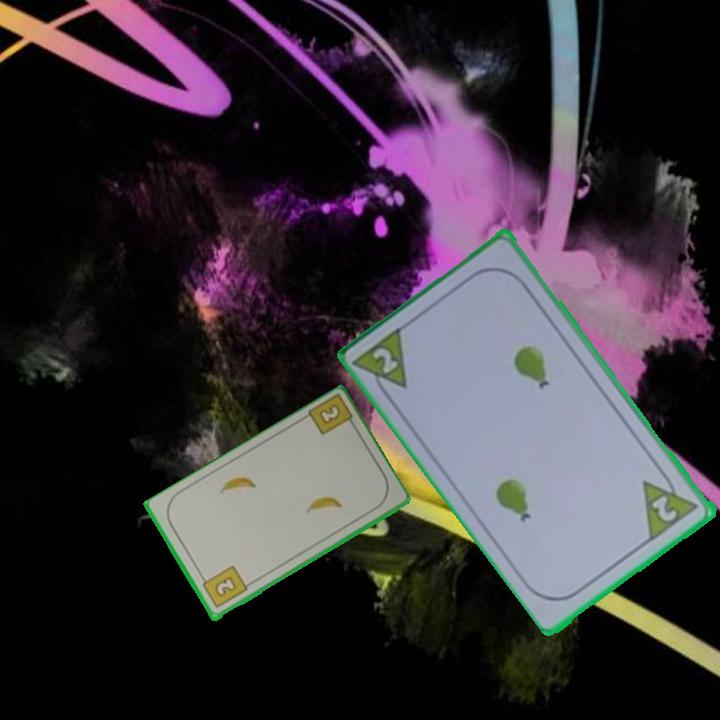2b: (197, 562, 250, 611), (303, 393, 359, 438)
2p: (639, 465, 703, 544), (351, 323, 411, 404)
